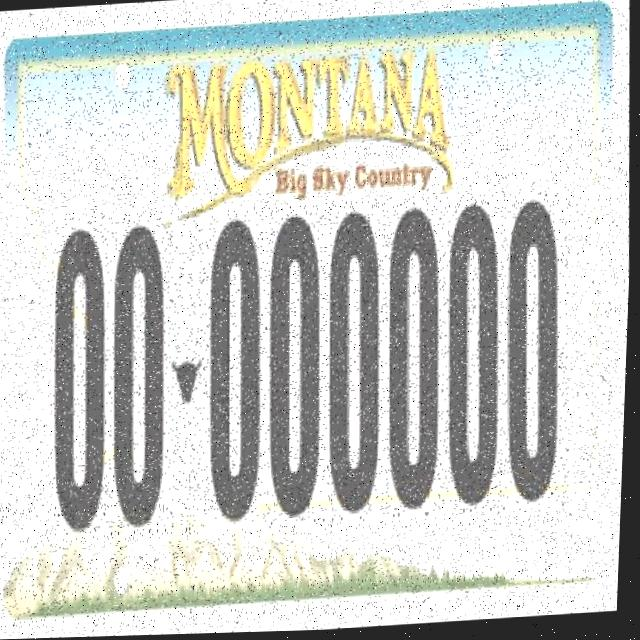LicensePlate: (47, 189, 582, 539)
